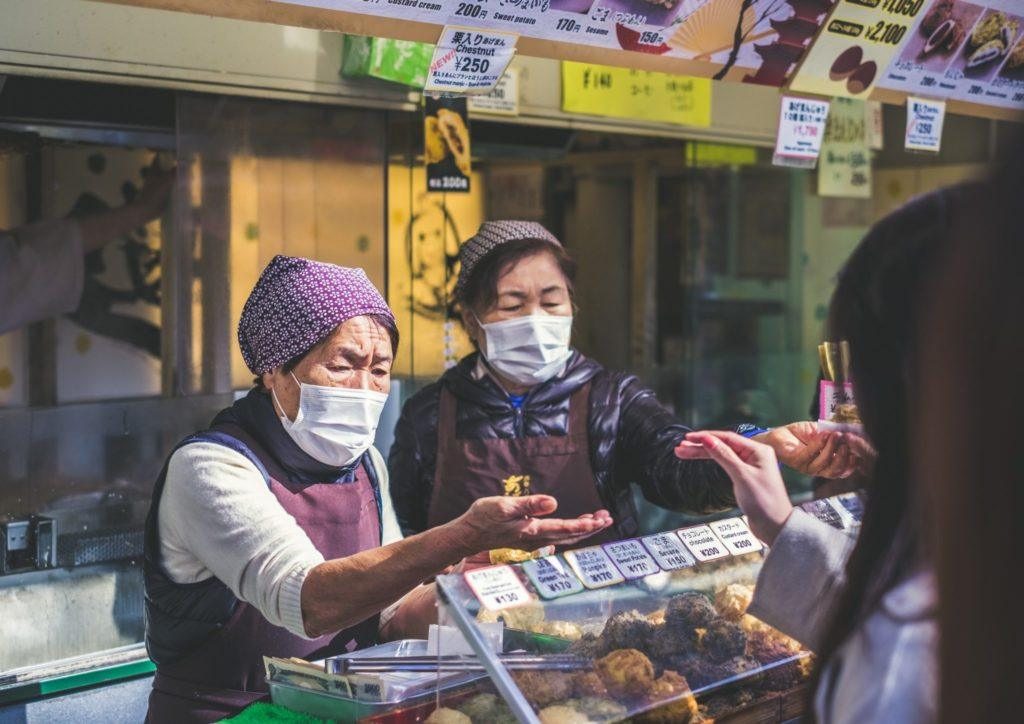mask: (278, 382, 388, 469), (482, 316, 572, 384)
